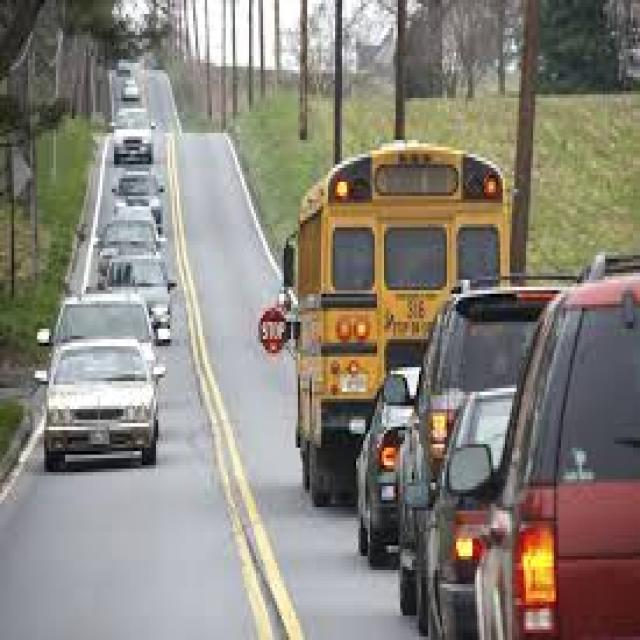bus: (298, 143, 507, 504)
car: (475, 276, 638, 640), (398, 287, 556, 587), (426, 388, 514, 640), (44, 339, 161, 472), (356, 374, 410, 567), (109, 255, 168, 329), (58, 304, 149, 343), (100, 220, 154, 276)
